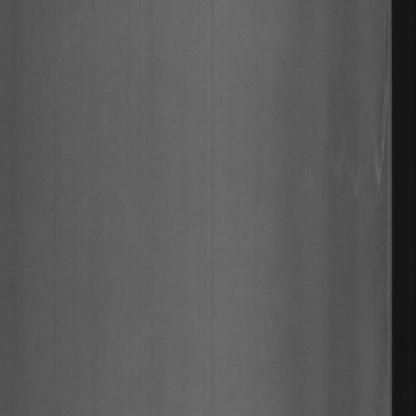silk_spot: (347, 75, 390, 304)
